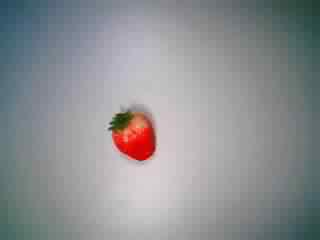strawberry: (100, 102, 166, 164)
